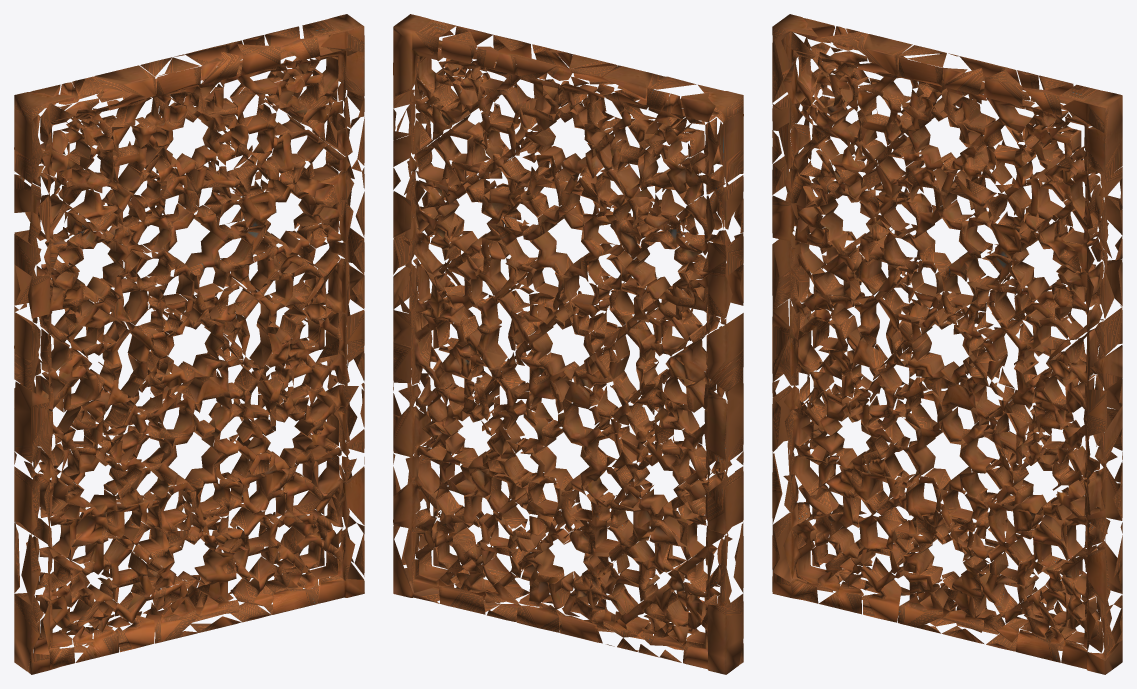
The model's file is mashrabiya_lod.glb.
3 views of the same model, side by side, from view 1: azimuth 30°, elevation 25°; view 2: azimuth 150°, elevation 25°; view 3: azimuth 330°, elevation 25° (orthographic).
Visible parts, largest first — view 1: LOD0; view 2: LOD0; view 3: LOD0.
Part boxes in pixels (bbox=[...]): LOD0: bbox=[14, 14, 364, 674]; LOD0: bbox=[393, 14, 743, 674]; LOD0: bbox=[772, 14, 1122, 674].
Size of the model in its own units: 1.17 by 1.9 by 0.1102.
1 material, 1 textured.
